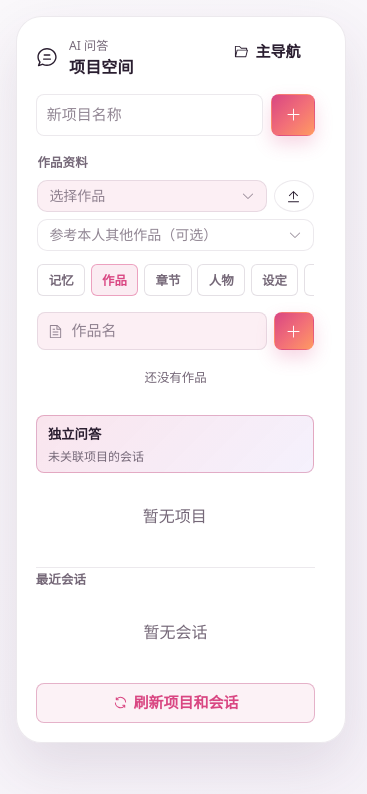
Test: KnowledgeProjectSpace › keeps add and import actions actionable while guiding missing prerequisites
The width and height of the screenshot is (367, 794).
Expected: the button with test id "knowledge-create-project" is enabled, [271,94,315,136]
Expected: the button with test id "knowledge-create-work" is enabled, [274,312,314,350]
Click the button with test id "knowledge-open-ingest". click: (294, 196)
box: [274,180,314,212]
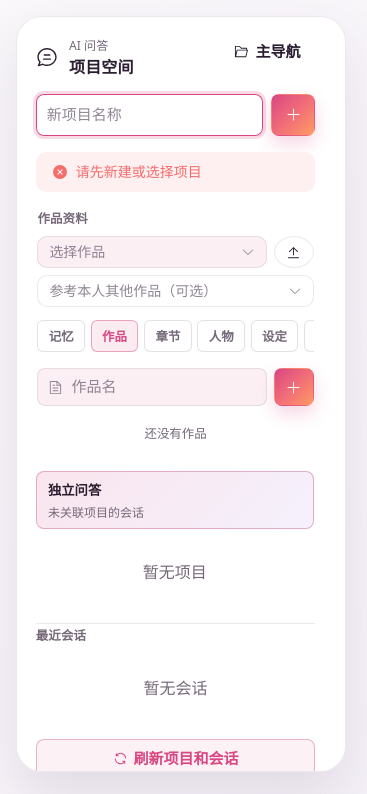
Now the text "请先新建或选择项目" is shown, box [76,160,202,184]
